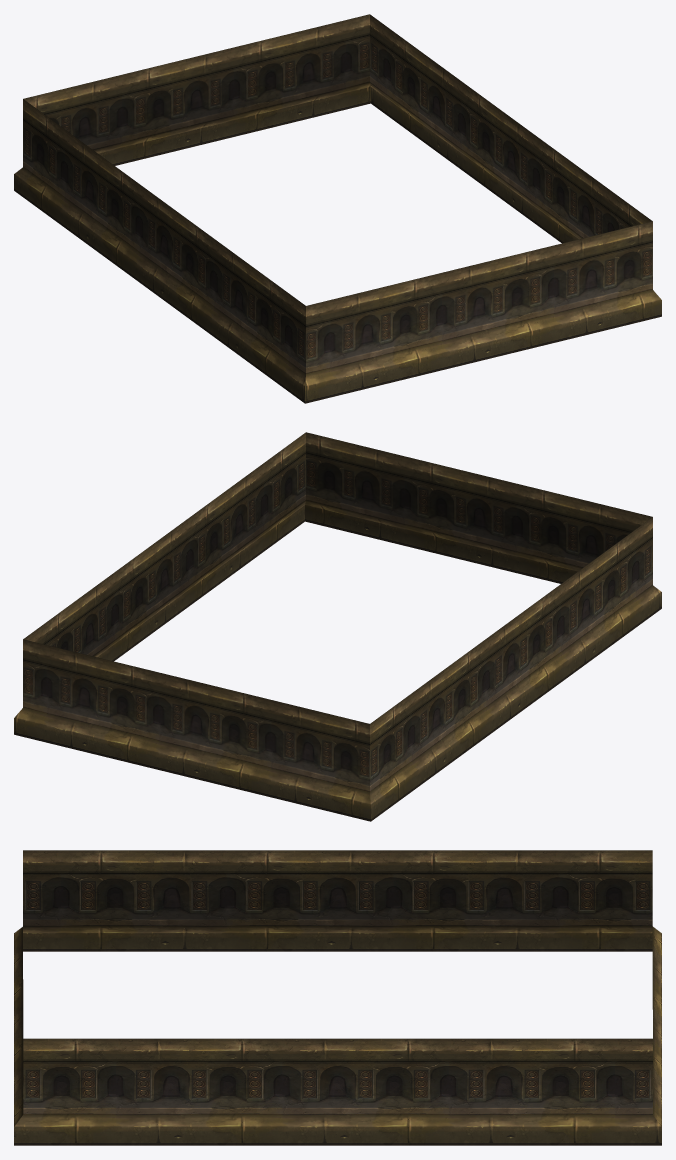
File: wall_deco_01.FBX
3 renders of one model, top to bottom at view 1: azimuth 30°, elevation 25°; view 2: azimuth 150°, elevation 25°; view 3: azimuth 270°, elevation 25°, orthographic. The views are drawn at different scales.
Parts seen in each view (by area): view 1: wall_deco_01; view 2: wall_deco_01; view 3: wall_deco_01.
Part boxes in pixels (x1,y1,x2,y2): wall_deco_01: (14, 14, 661, 403); wall_deco_01: (14, 432, 661, 821); wall_deco_01: (14, 850, 661, 1145).
Bounding box in the file's own units: 9.24 × 2.32 × 13.06.
Materials: 1 (1 with a texture image).
